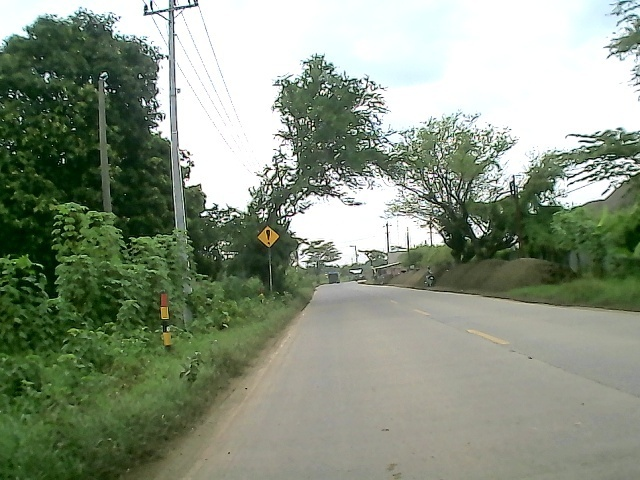Hati-hati: (254, 226, 280, 250)
